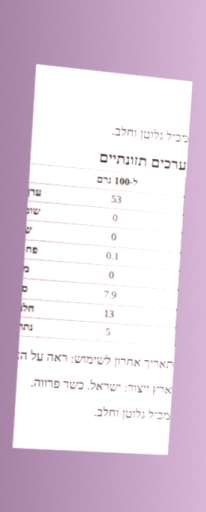carbs: (104, 249, 121, 263)
energy: (109, 192, 123, 207)
fat: (111, 211, 119, 225)
protein: (102, 307, 116, 321)
